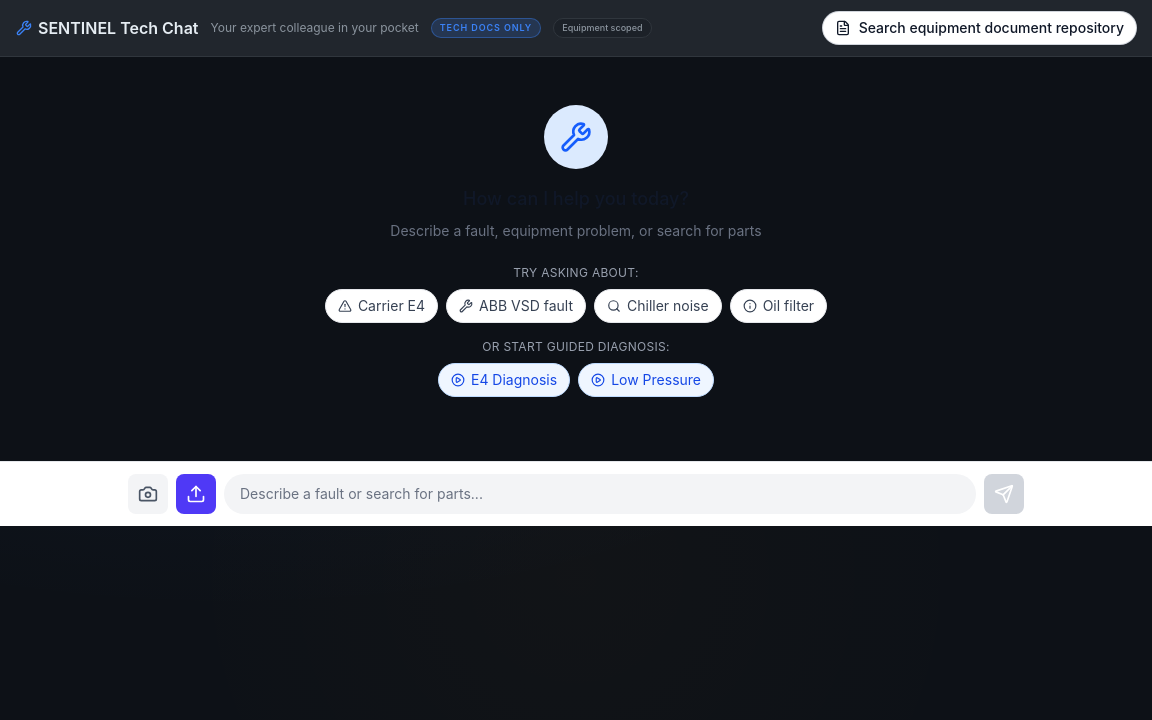
Scenario: TechnicianChat › Quick Action Buttons › should hide quick actions after sending message
Click the button "Carrier E4" at coordinates (382, 306), box [325,289,438,323]
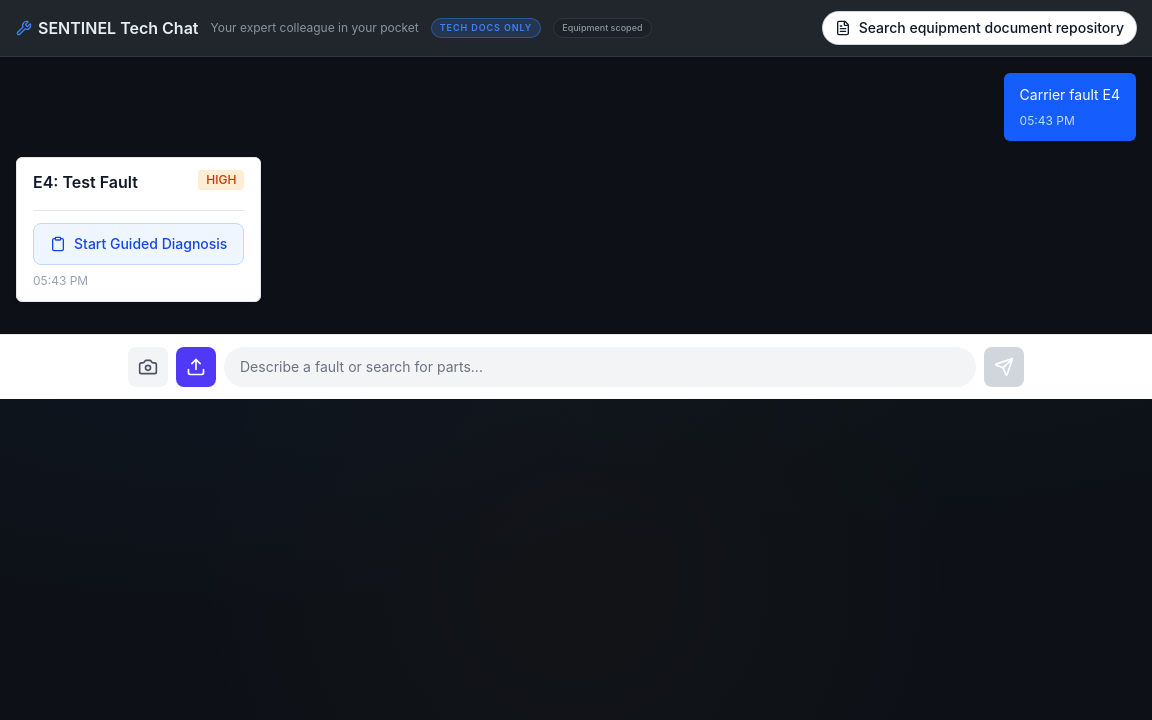
Check: the button "Carrier E4" is gone
